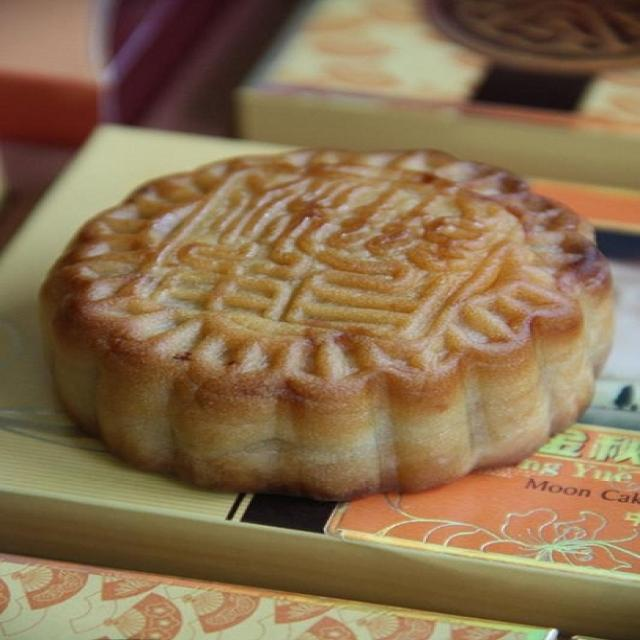蛋糕甜品: (20, 114, 629, 514)
